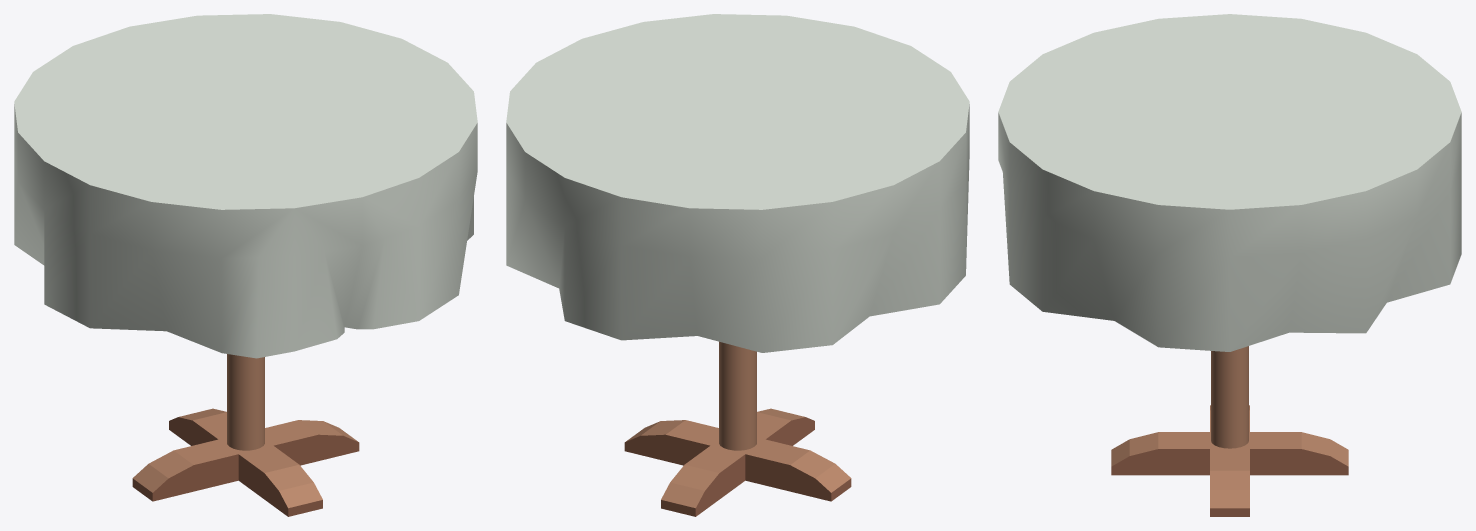
File: table.fbx
3 renders of one model, left to right at view 1: azimuth 30°, elevation 25°; view 2: azimuth 150°, elevation 25°; view 3: azimuth 270°, elevation 25°, orthographic.
Parts seen in each view (by area): view 1: table1; view 2: table1; view 3: table1.
Boxes of the visible parts, box(x1,y1,x2,y2) form: table1: box(14, 14, 477, 516); table1: box(506, 14, 969, 516); table1: box(998, 14, 1461, 516).
Bounding box in the file's own units: 3.24 × 2.74 × 3.24.
